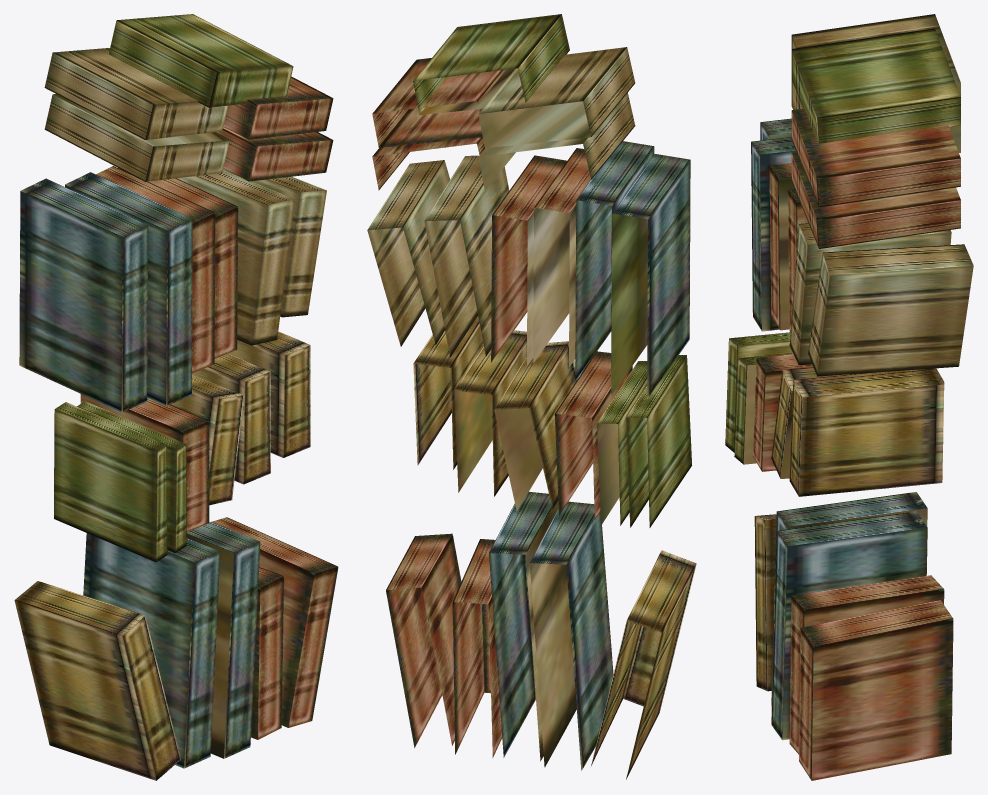
Rendered from book34-4.glb.
The picture shows the model from 3 angles, left to right: view 1: azimuth 30°, elevation 25°; view 2: azimuth 150°, elevation 25°; view 3: azimuth 270°, elevation 25°; orthographic projection. The views are drawn at different scales.
Parts seen in each view (by area): view 1: book34_4; view 2: book34_4; view 3: book34_4.
Boxes of the visible parts, x1,y1,x2,y2 form: book34_4: [14, 14, 338, 780]; book34_4: [367, 14, 696, 779]; book34_4: [725, 14, 973, 780].
Size of the model in its own units: 177 by 413 by 135.
Materials: 1 (1 with a texture image).
